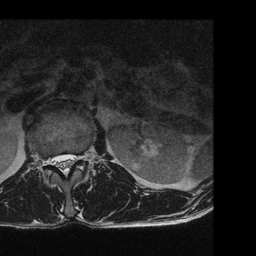CCS_normal: (61, 146, 69, 181)
LFS_stenosis: (77, 148, 85, 166)
LLS_normal: (69, 148, 77, 170)
RFS_normal: (44, 150, 52, 173)
RLS_normal: (52, 147, 61, 173)
